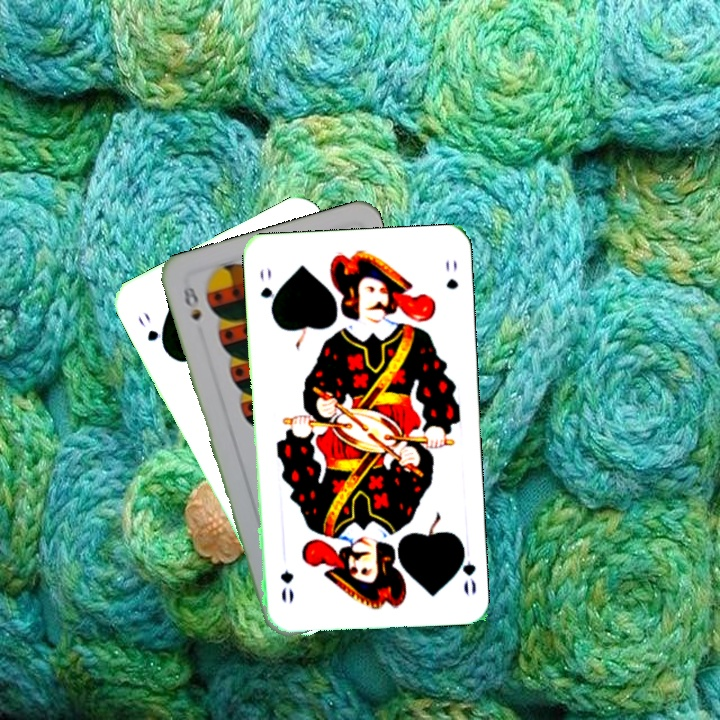GO: (134, 308, 170, 355), (452, 539, 479, 598), (256, 263, 279, 317)
S8: (179, 278, 204, 323)
